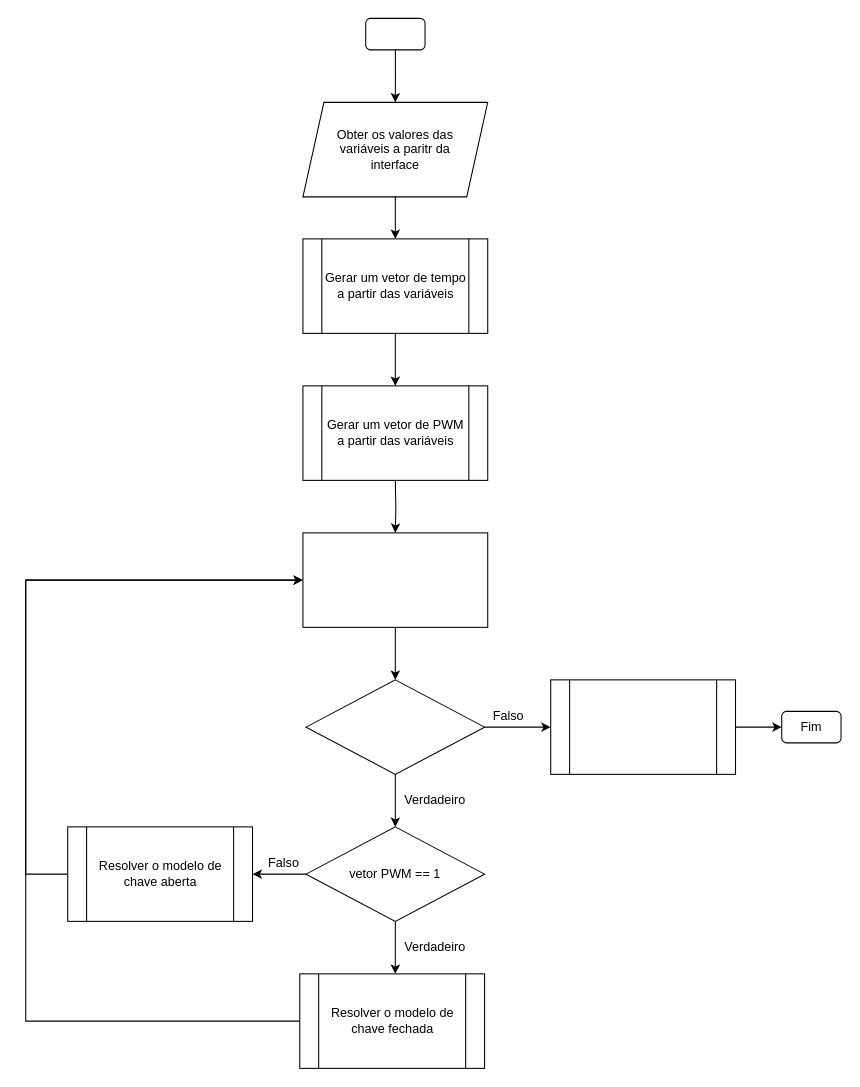
Image size: 860x1087. Some labels were removed from this diagram. Here are the shapes that lost their labels. From the top down, the centre of each, then its label:
At point 395,33: "Inicio".
At point 395,579: "Armazenar os valores iniciais de corrente e tensão (para a próxima iteração)".
At point 395,726: "Nº de iterações < vetor tempo".
At point 643,726: "Plotar os gŕaficos tensão do capacitor x tempo e corrente no indutor x tempo".
